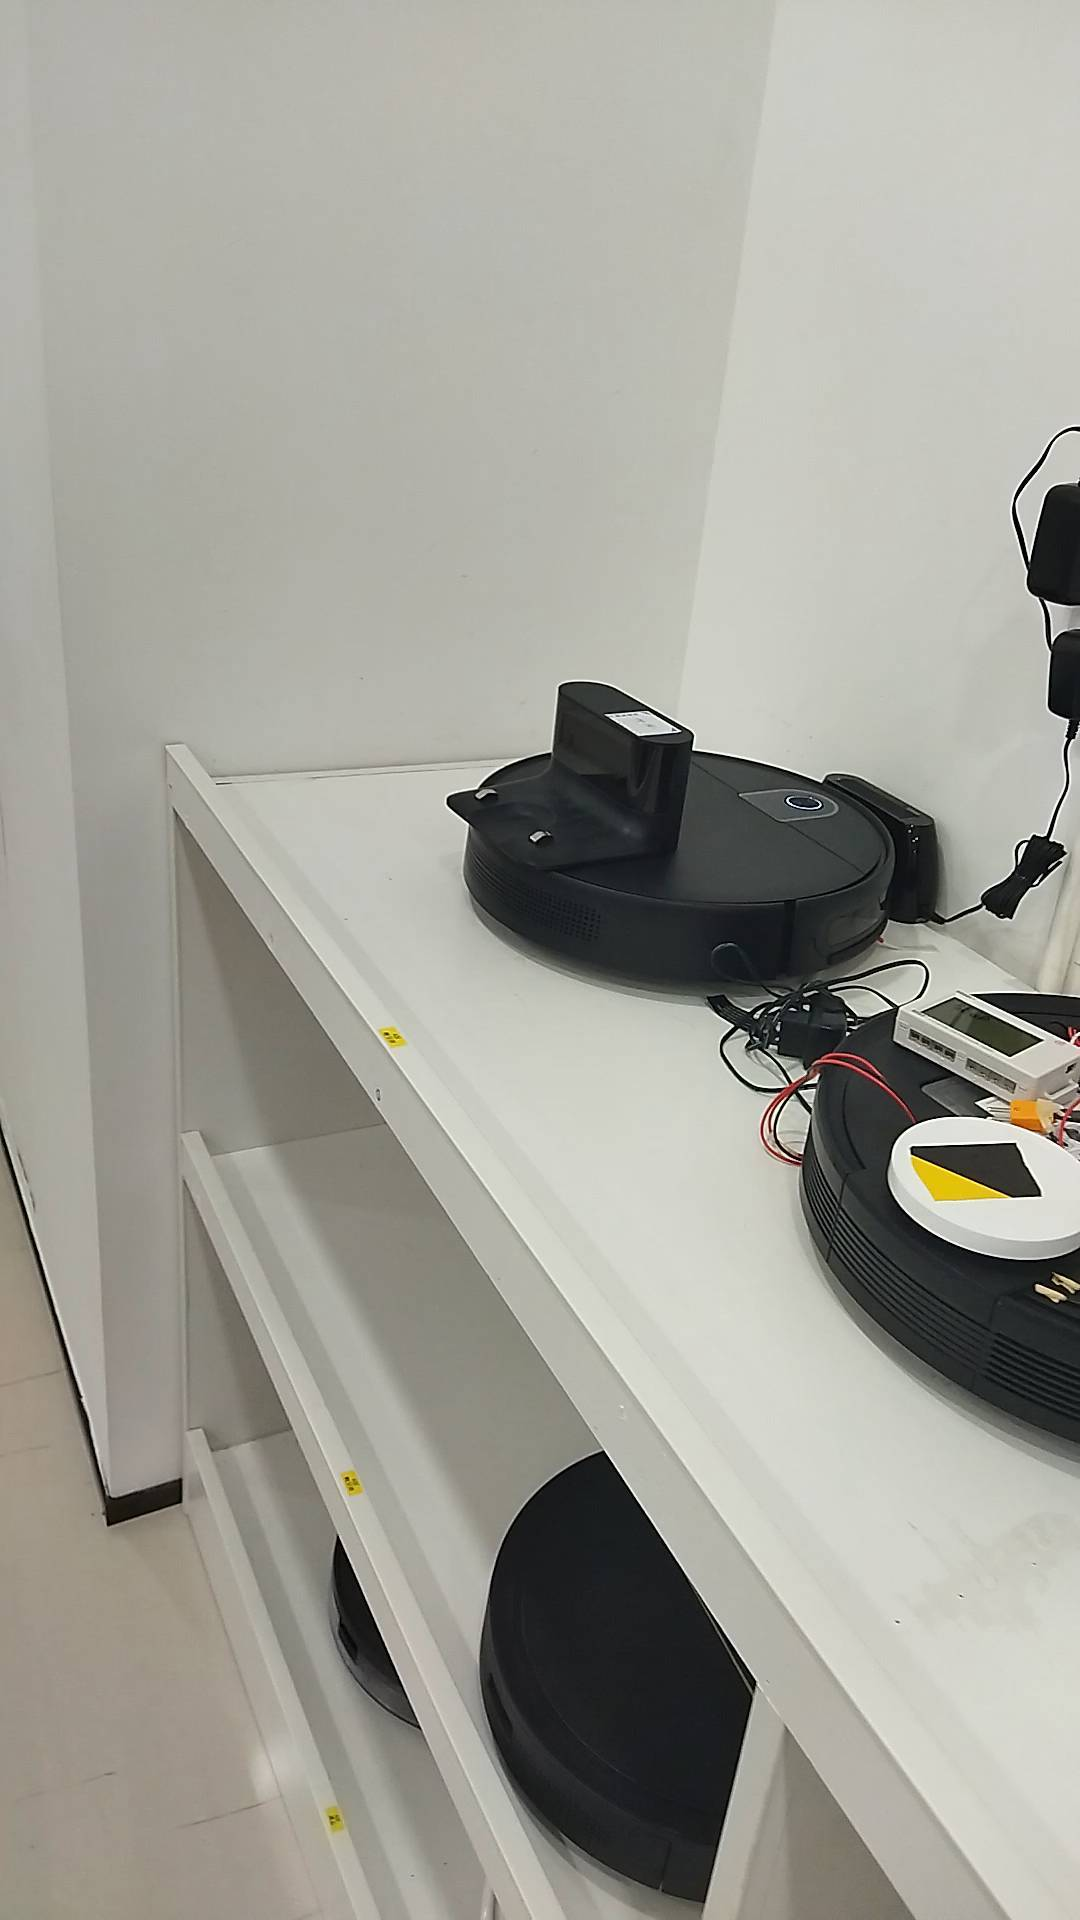recharge seat: (444, 680, 700, 874)
